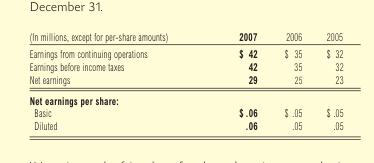table: (28, 29, 342, 131)
table column: (28, 29, 202, 131), (202, 29, 270, 131), (270, 29, 313, 131), (313, 29, 342, 131)
table column header: (28, 29, 342, 44)
table projected row header: (28, 89, 342, 106)
table row: (28, 72, 342, 89), (28, 89, 342, 106), (28, 29, 342, 44), (28, 44, 342, 59), (28, 59, 342, 72), (28, 118, 342, 131), (28, 106, 342, 118)
